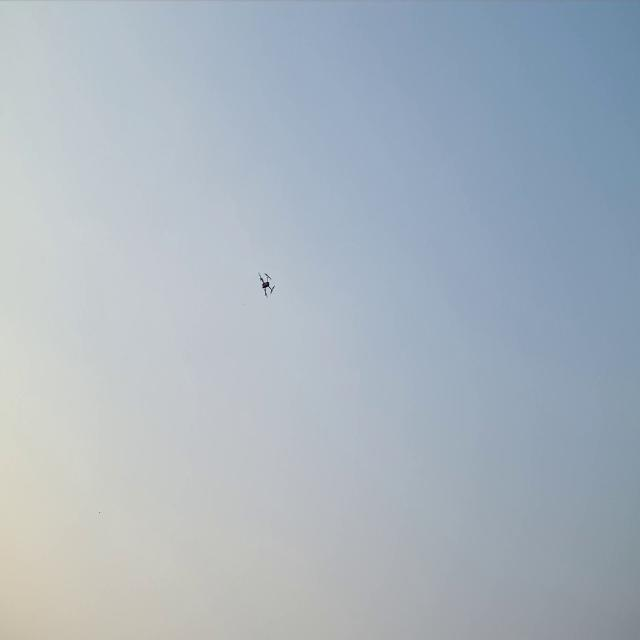UAV: (256, 270, 276, 300)
